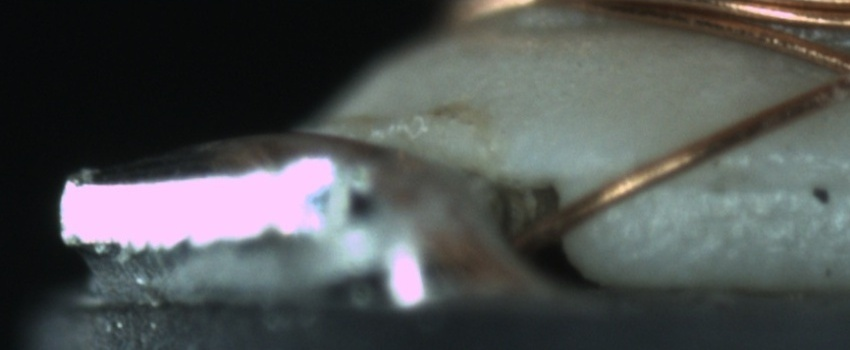CL: (804, 39, 849, 108)
DL: (675, 147, 849, 215)
